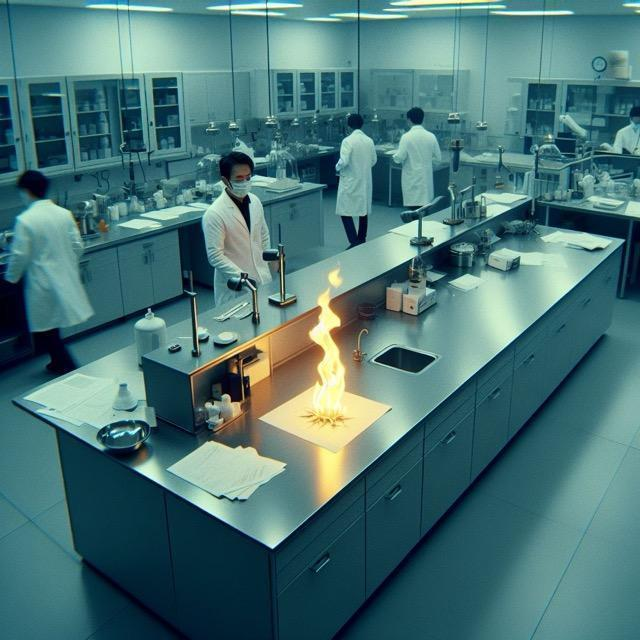smoke: (300, 285, 351, 418)
